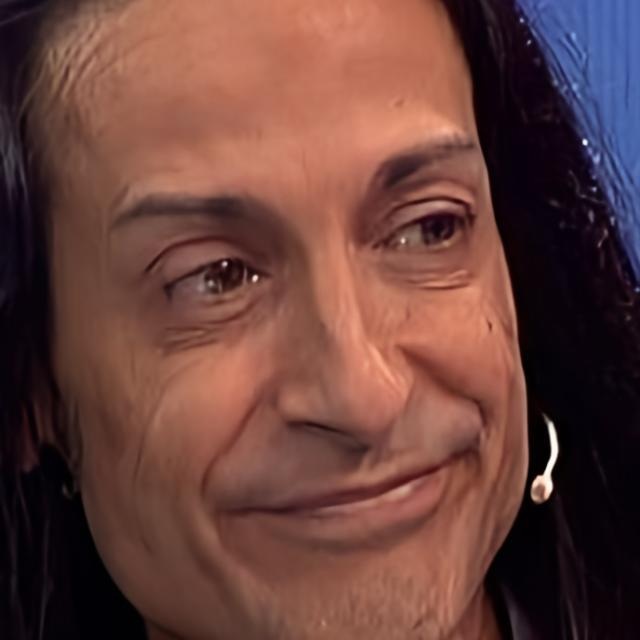content: (44, 0, 528, 640)
